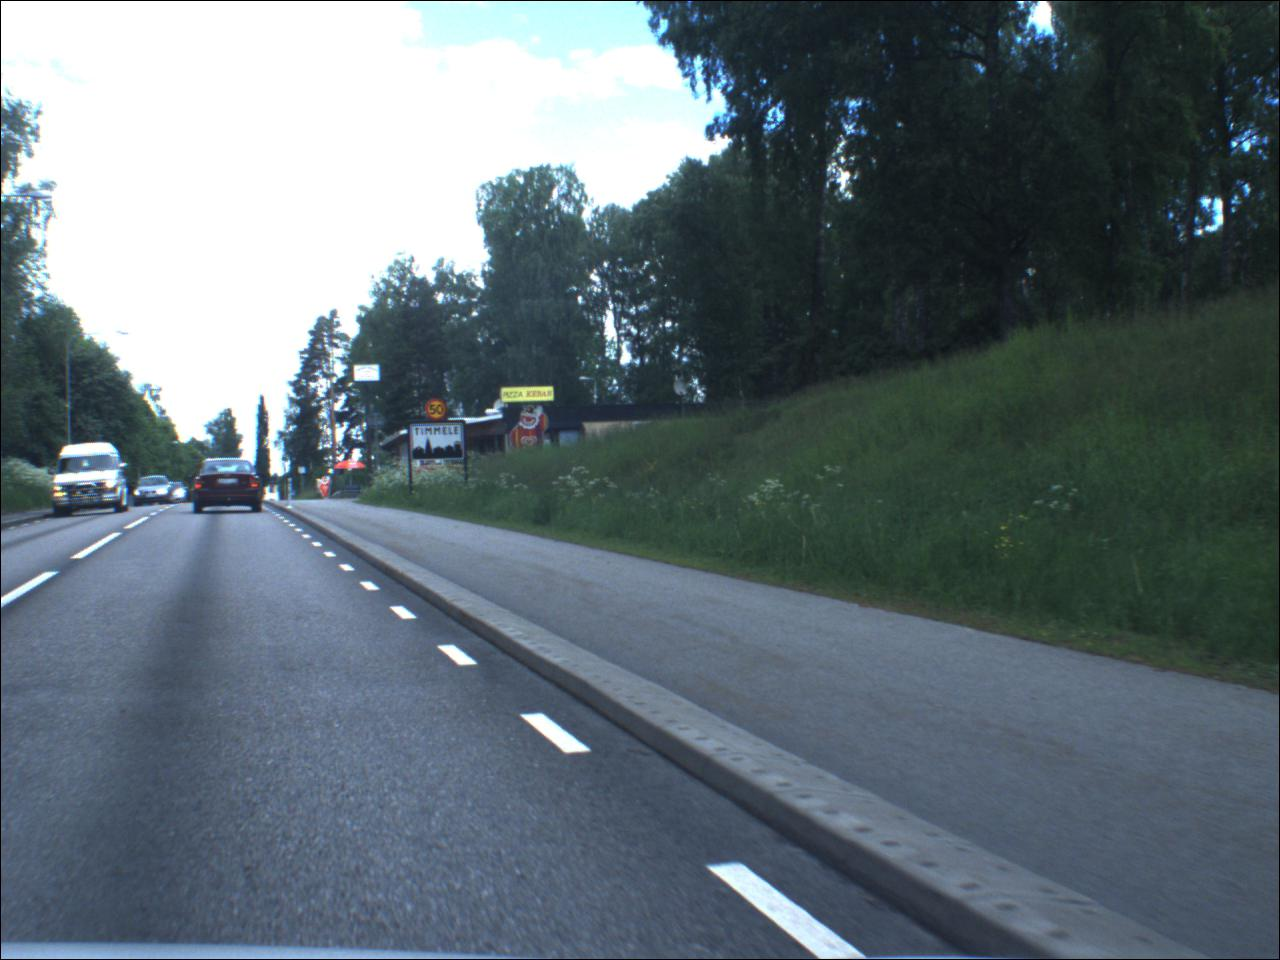50_SIGN: (428, 399, 451, 423)
